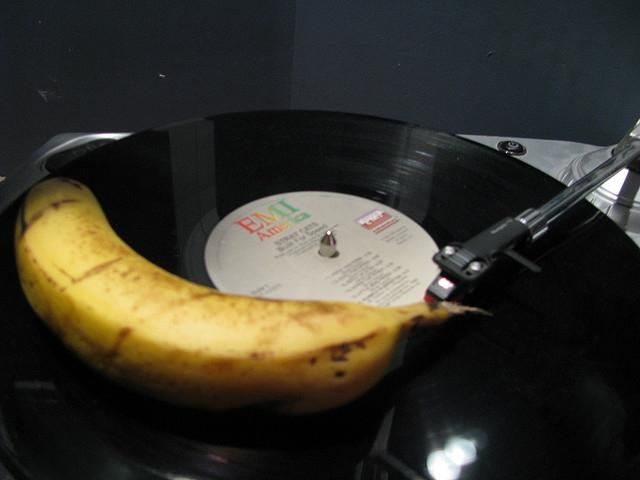banana: (13, 177, 491, 418)
